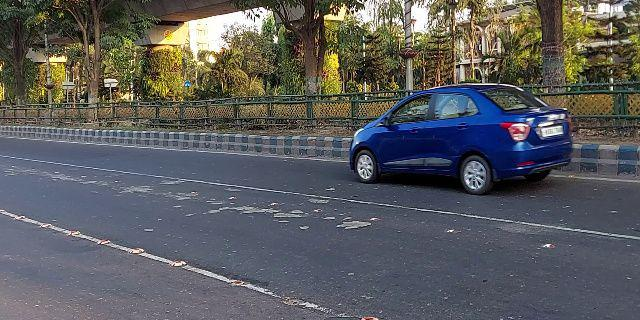Car: (345, 81, 575, 198)
